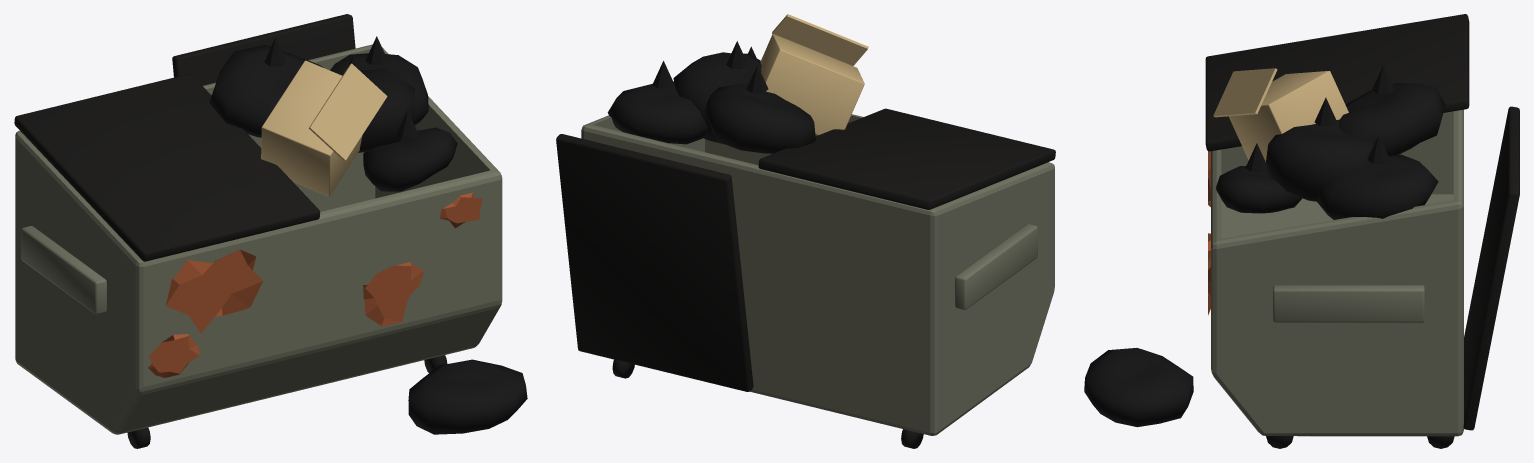
File: dumpster.glb
3 views of the same model, side by side, from view 1: azimuth 30°, elevation 25°; view 2: azimuth 150°, elevation 25°; view 3: azimuth 270°, elevation 25° (orthographic). The views are drawn at different scales.
Visible parts, largest first — view 1: body, lid_left, bag_ground, box_split, bag_1, rust_0, lid_right, bag_3, box_flap, fork_pocket_-1, bag_0, rust_1 (+3 smaller); view 2: body, lid_right, lid_left, box_split, bag_1, bag_2, fork_pocket_-1, bag_0, box_flap; view 3: body, lid_left, lid_right, bag_ground, fork_pocket_1, bag_0, bag_2, bag_1, box_split, bag_3, box_flap.
Boxes of the visible parts, bbox=[...] form: body: bbox=[15, 44, 502, 434]; lid_left: bbox=[14, 74, 320, 261]; bag_ground: bbox=[408, 359, 527, 434]; box_split: bbox=[261, 60, 362, 196]; bag_1: bbox=[209, 44, 323, 137]; rust_0: bbox=[166, 249, 262, 333]; lid_right: bbox=[172, 14, 355, 85]; bag_3: bbox=[363, 127, 457, 191]; box_flap: bbox=[308, 63, 387, 160]; fork_pocket_-1: bbox=[21, 226, 106, 314]; bag_0: bbox=[358, 69, 414, 152]; rust_1: bbox=[363, 262, 423, 326]; body: bbox=[581, 114, 1054, 435]; lid_right: bbox=[556, 134, 753, 391]; lid_left: bbox=[758, 108, 1055, 209]; box_split: bbox=[760, 34, 864, 135]; bag_1: bbox=[704, 84, 815, 153]; bag_2: bbox=[607, 81, 708, 144]; fork_pocket_-1: bbox=[955, 224, 1037, 309]; bag_0: bbox=[673, 52, 761, 143]; box_flap: bbox=[772, 14, 868, 65]; body: bbox=[1211, 109, 1463, 436]; lid_left: bbox=[1205, 14, 1469, 151]; lid_right: bbox=[1463, 106, 1519, 430]; bag_ground: bbox=[1084, 348, 1193, 427]; fork_pocket_1: bbox=[1273, 285, 1424, 322]; bag_0: bbox=[1266, 119, 1373, 201]; bag_2: bbox=[1317, 154, 1438, 219]; bag_1: bbox=[1338, 83, 1445, 155]; box_split: bbox=[1228, 71, 1348, 161]; bag_3: bbox=[1216, 166, 1301, 213]; box_flap: bbox=[1213, 68, 1277, 117].
Bounding box in the file's own units: 1.97 × 1.61 × 1.89.
